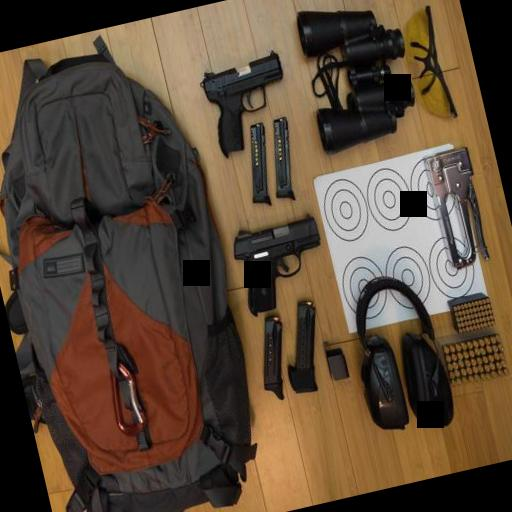Handgun: (226, 210, 334, 320), (196, 50, 300, 158)
